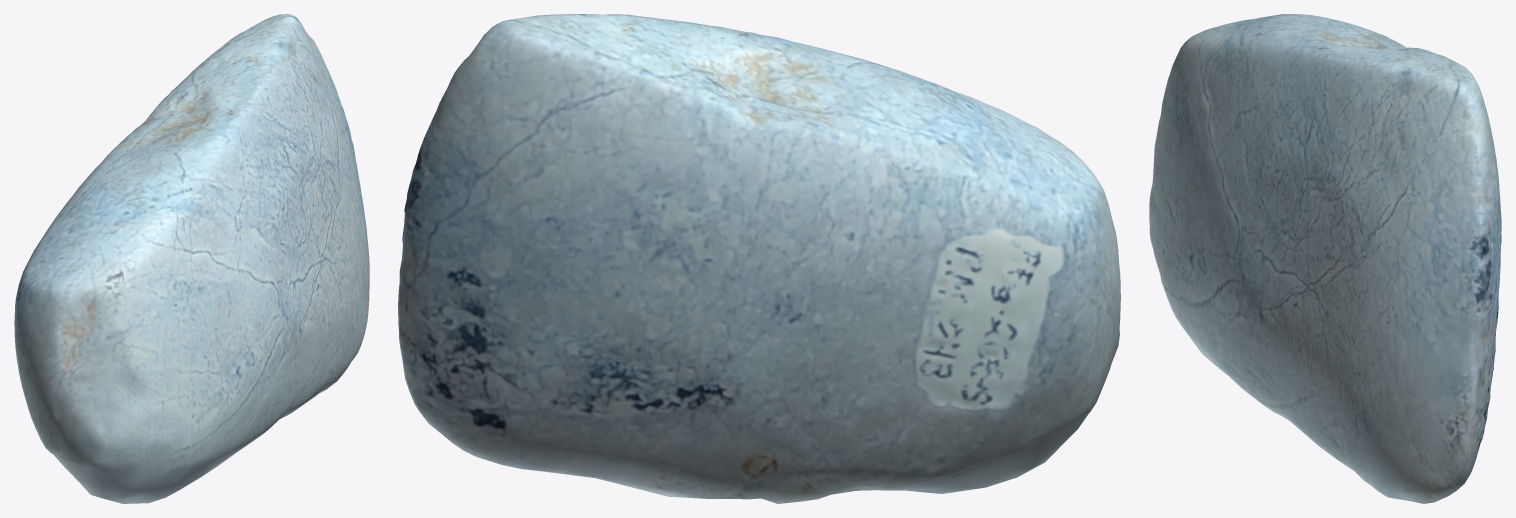
File: PIEZA12.obj
The picture shows the model from 3 angles, left to right: view 1: azimuth 30°, elevation 25°; view 2: azimuth 150°, elevation 25°; view 3: azimuth 270°, elevation 25°; orthographic projection. The views are drawn at different scales.
Visible parts, largest first — view 1: mmGroup0; view 2: mmGroup0; view 3: mmGroup0.
Boxes of the visible parts, x1,y1,x2,y2 form: mmGroup0: (14,14,369,503); mmGroup0: (398,14,1120,503); mmGroup0: (1149,14,1501,503).
Bounding box in the file's own units: 0.2567 × 0.2038 × 0.1555.
Materials: 2 (2 with a texture image).
